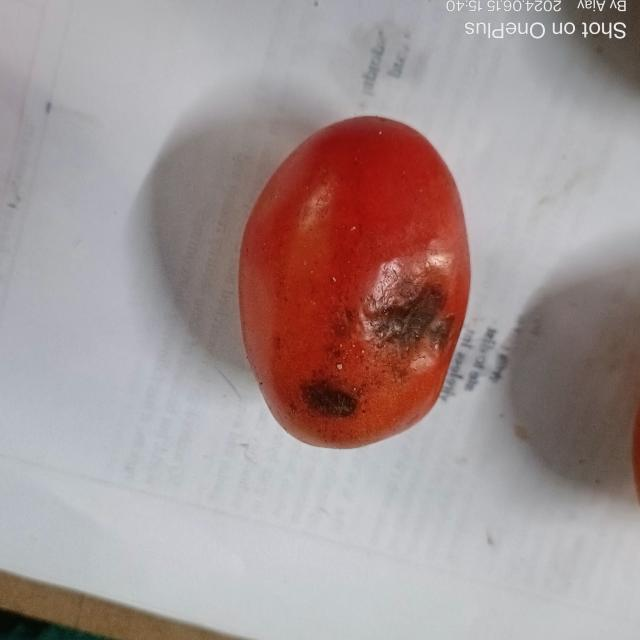Botrytis: (362, 286, 455, 364), (298, 381, 360, 421)
